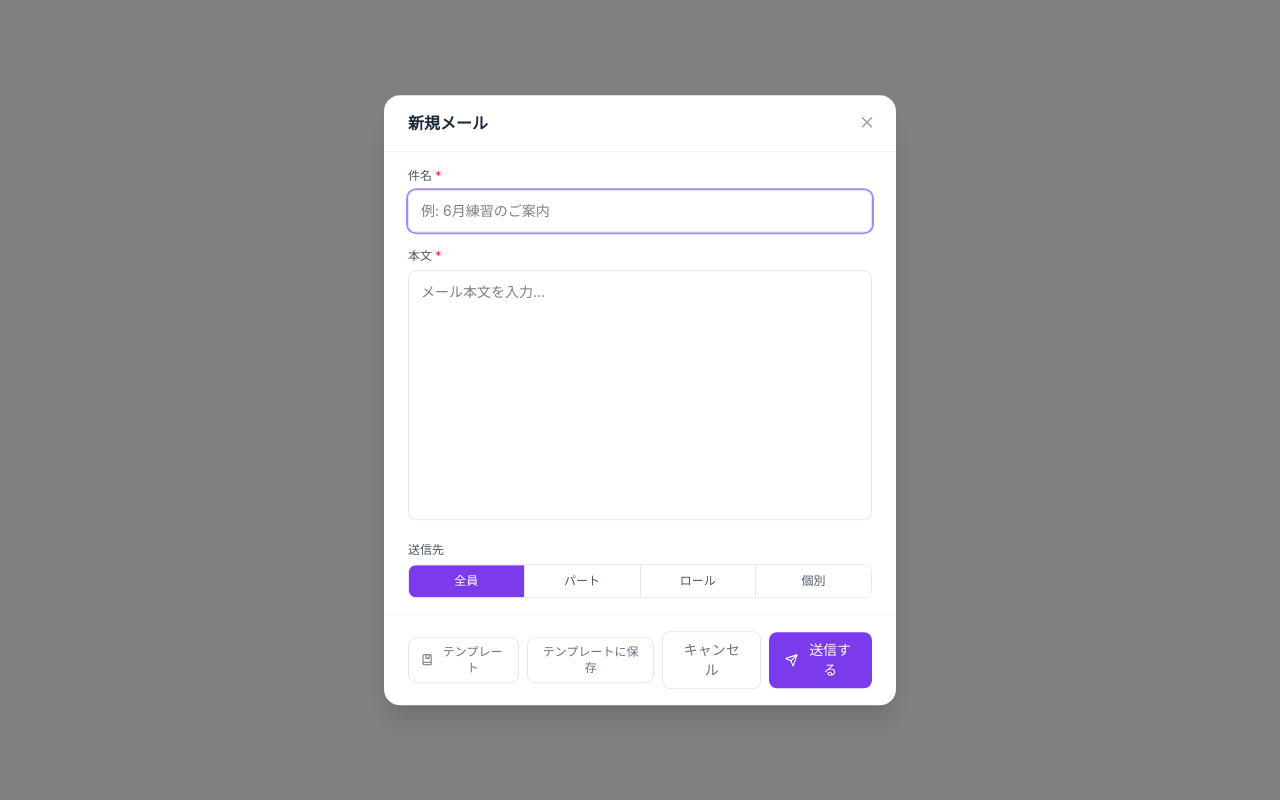
Scenario: ComposeModal（テンプレートパネル） › 削除を確定するとtemplates.deleteが呼ばれ一覧から消える
This screenshot has width=1280, height=800.
Click the button "テンプレート" at (464, 660), box [408,637,519,683]
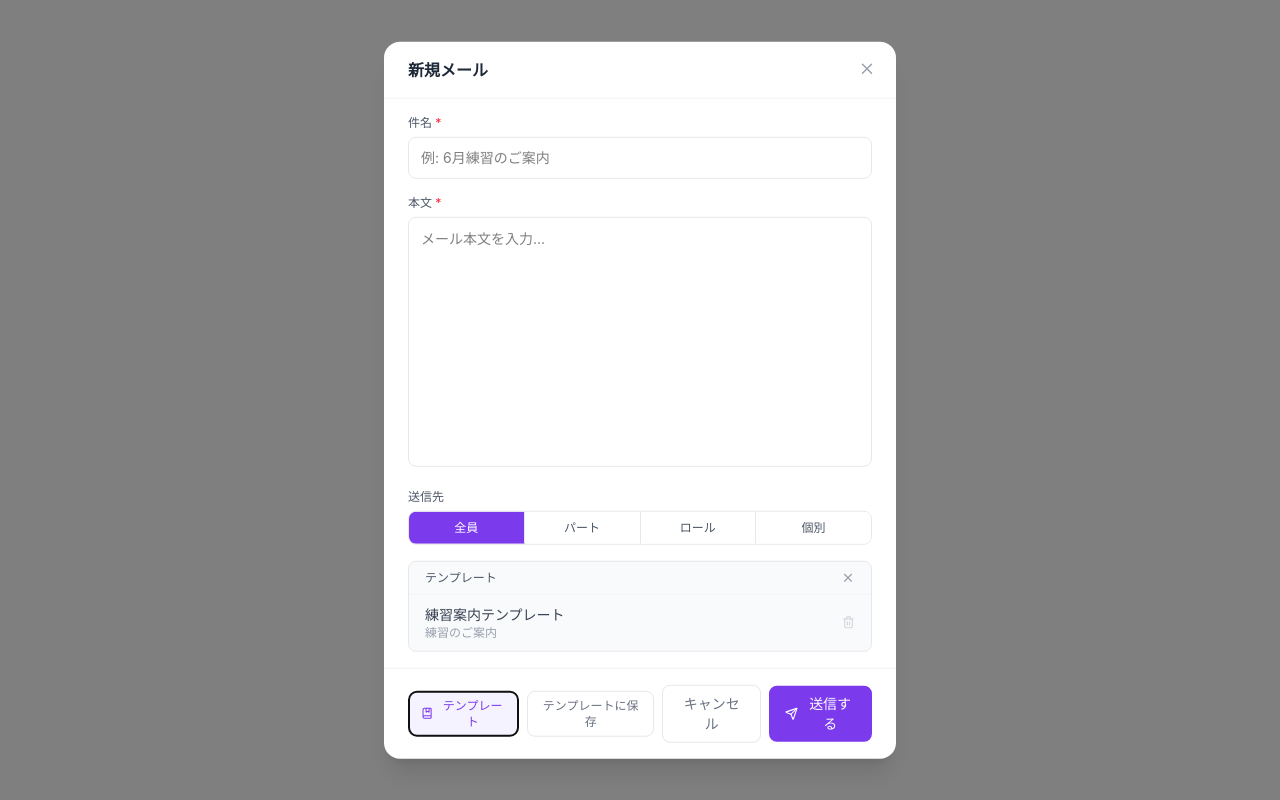
Click the button named "テンプレート「練習案内テンプレート」を削除" at (848, 622), box [842,616,855,629]
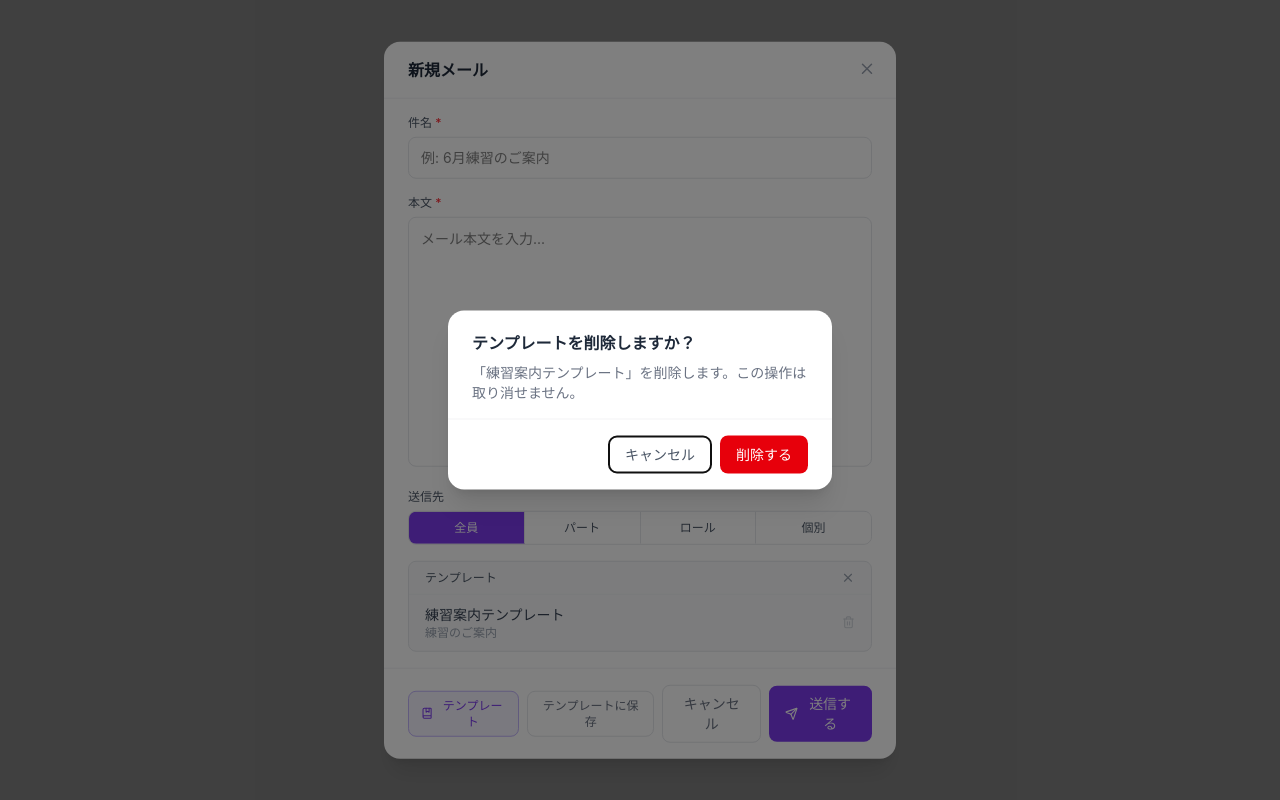
Click the button "削除する" at (764, 454), box [720,436,808,474]
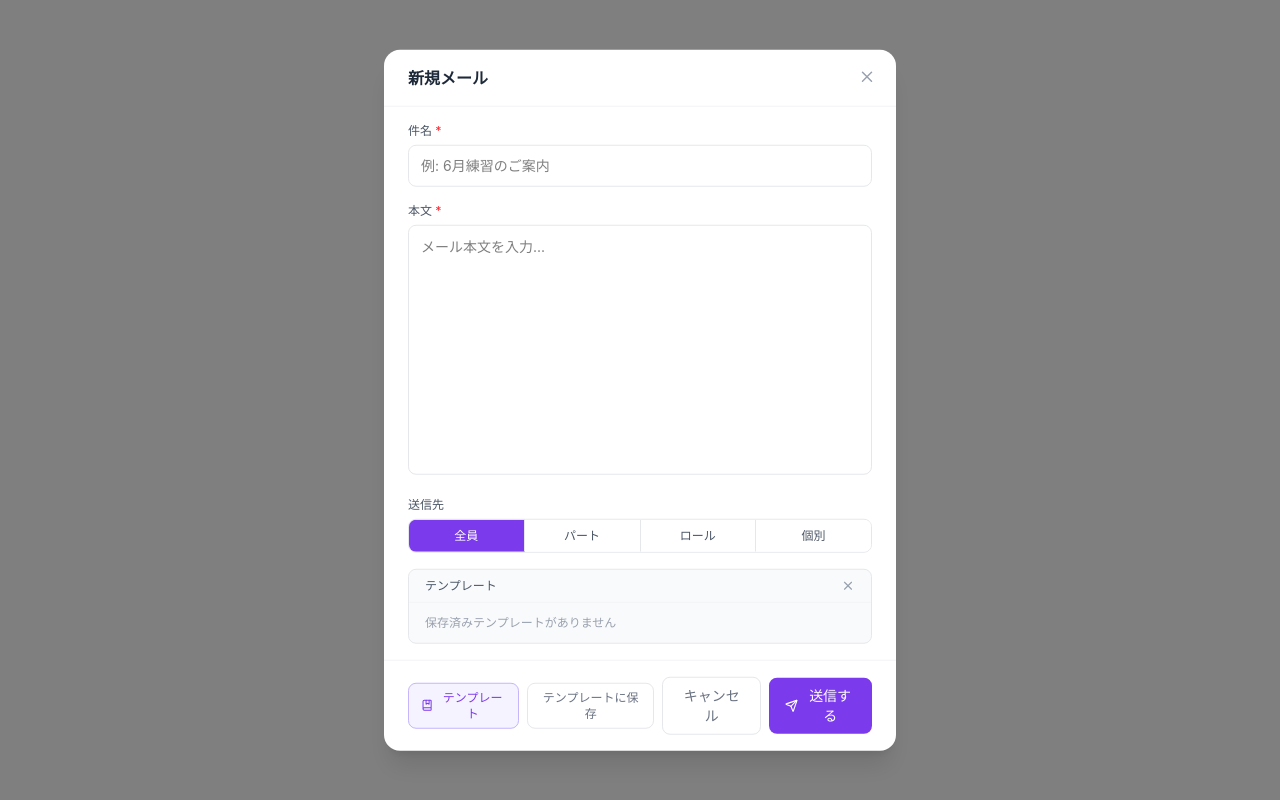
Now the text "保存済みテンプレートがありません" is shown, box [425,614,616,629]
